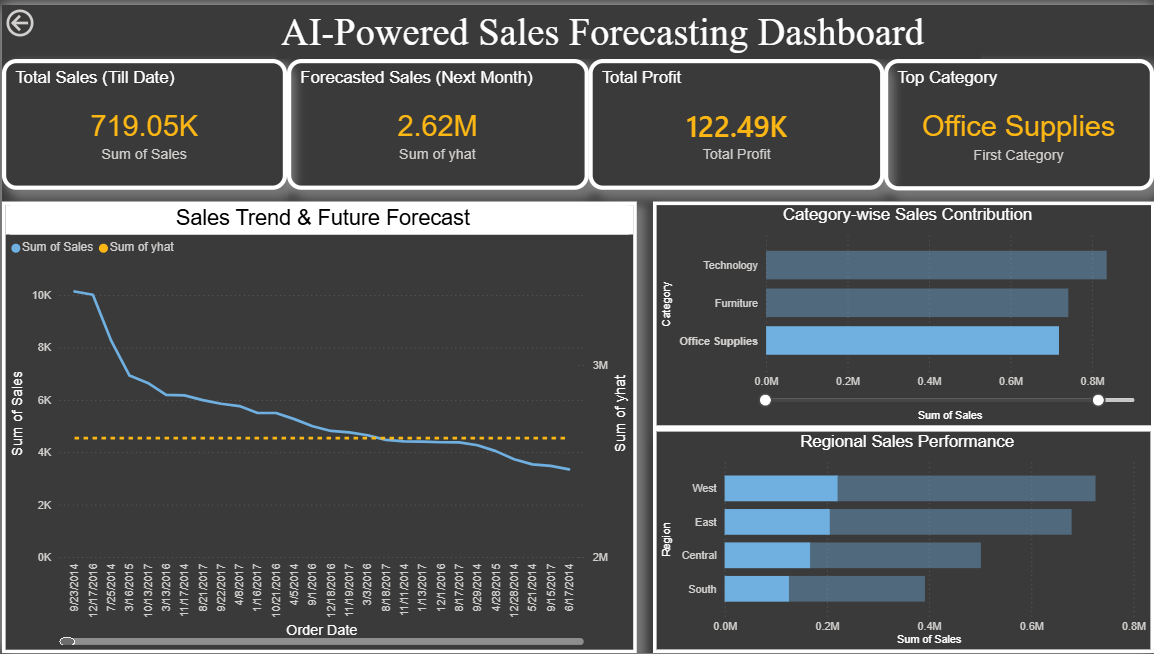

This screenshot's page, from the dashboard's own definition file:
{"tool":"powerbi","page":{"name":"Page 1","canvas":[1280,720],"ordinal":0},"visuals":[{"type":"lineChart","title":"Sales Trend & Future Forecast","fields":{"Category":["superstore.Order Date"],"Y":["Sum(superstore.Sales)"],"Y2":["Sum(sales_forecast.yhat)"]},"box":[0,218.3,705,501.7],"z":0},{"type":"actionButton","box":[0,0,100,40],"z":6},{"type":"card","title":"Forecasted Sales (Next Month)","fields":{"Values":["Sum(sales_forecast.yhat)"]},"box":[316.7,60,335,145],"z":7},{"type":"card","title":"Top Category","fields":{"Values":["Min(superstore.Category)"]},"box":[980.6,59.6,299.8,145.8],"z":8},{"type":"card","title":"Total Sales (Till Date)","fields":{"Values":["Sum(superstore.Sales)"]},"box":[0,60,316.7,145],"z":9},{"type":"cardVisual","title":"Total Profit","fields":{"Data":["superstore.Total Profit"]},"box":[651.7,60,328.3,145],"z":10},{"type":"clusteredBarChart","title":"Category-wise Sales Contribution","fields":{"Category":["superstore.Category"],"Y":["Sum(superstore.Sales)"]},"box":[722.5,217.5,557.5,252.5],"z":11},{"type":"barChart","title":" Regional Sales Performance","fields":{"Category":["superstore.Region"],"Y":["Sum(superstore.Sales)"]},"box":[723.3,470,556.7,250],"z":12},{"type":"textbox","box":[305,0,782.5,60],"z":13}]}

Visuals, with their boxes in screenshot pixels (x1, y1, x2, y2), scaled from the page's 1280x720 canvas onto the 1154x654 screenshot:
"Sales Trend & Future Forecast" lineChart: bbox=(0, 198, 636, 653)
actionButton: bbox=(0, 0, 90, 36)
"Forecasted Sales (Next Month)" card: bbox=(286, 54, 588, 186)
"Top Category" card: bbox=(884, 54, 1153, 187)
"Total Sales (Till Date)" card: bbox=(0, 54, 286, 186)
"Total Profit" cardVisual: bbox=(588, 54, 884, 186)
"Category-wise Sales Contribution" clusteredBarChart: bbox=(651, 198, 1153, 427)
" Regional Sales Performance" barChart: bbox=(652, 427, 1153, 653)
textbox: bbox=(275, 0, 980, 54)
